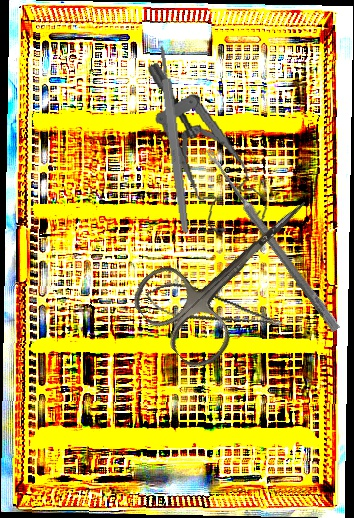Iris Scissors: (124, 163, 343, 377)
Micro Scissor: (141, 271, 285, 352)
Scalpel Handle: (156, 44, 192, 235)
Speculum: (147, 51, 270, 241)
Surgical Spoon: (202, 146, 342, 333)
